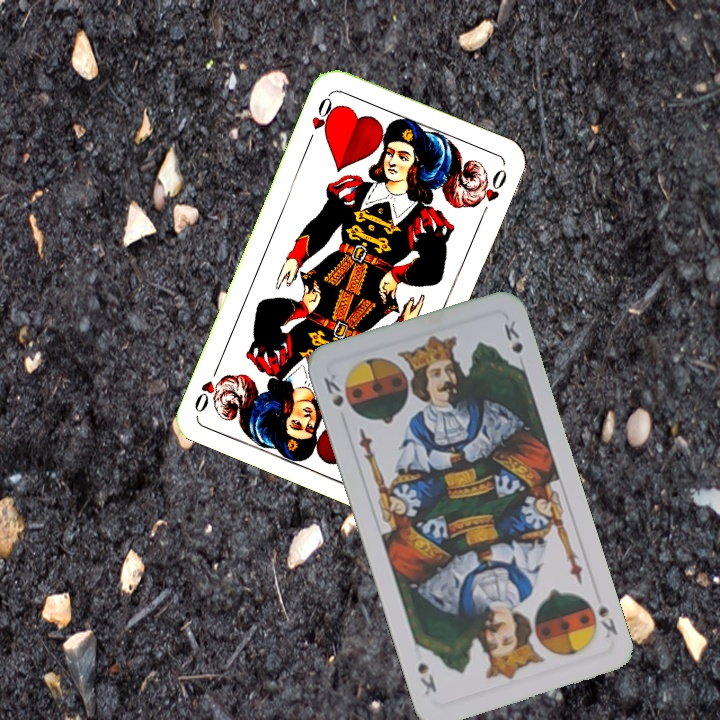HO: (303, 91, 340, 147)
SK: (319, 369, 346, 410), (594, 600, 621, 641)
